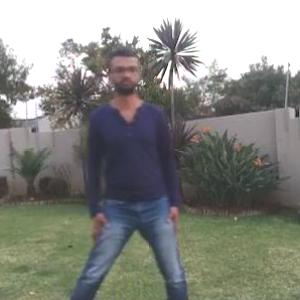follow: (79, 32, 181, 299)
